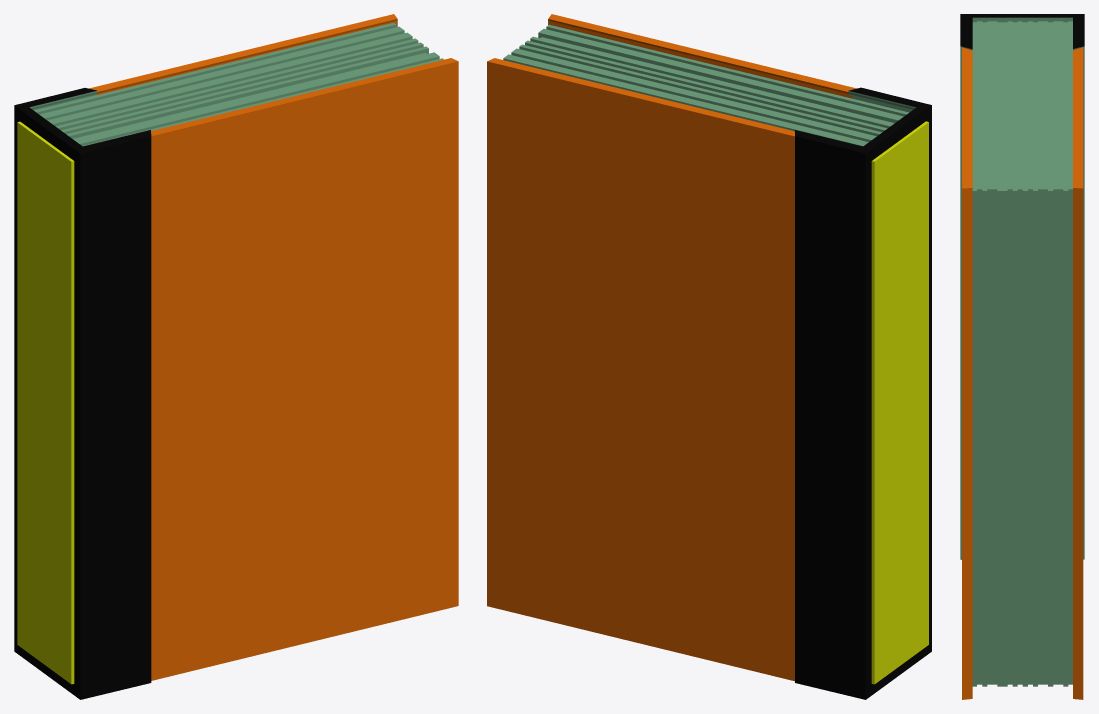
File: DeskBook6.fbx
The picture shows the model from 3 angles, left to right: view 1: azimuth 30°, elevation 25°; view 2: azimuth 150°, elevation 25°; view 3: azimuth 270°, elevation 25°; orthographic projection. The views are drawn at different scales.
Parts seen in each view (by area): view 1: Book.002; view 2: Book.002; view 3: Book.002.
Boxes of the visible parts, x1,y1,x2,y2 form: Book.002: [14, 14, 458, 699]; Book.002: [487, 14, 931, 699]; Book.002: [960, 14, 1084, 699].
Bounding box in the file's own units: 128 × 175 × 38.36.
